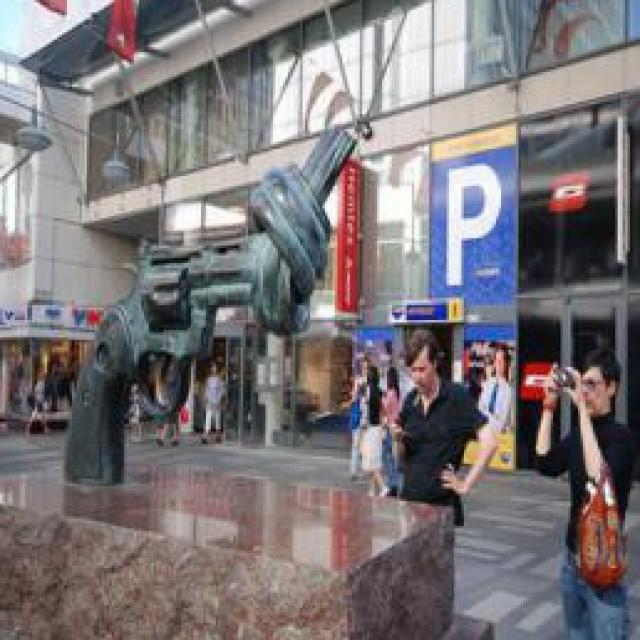pistol: (64, 240, 254, 482)
